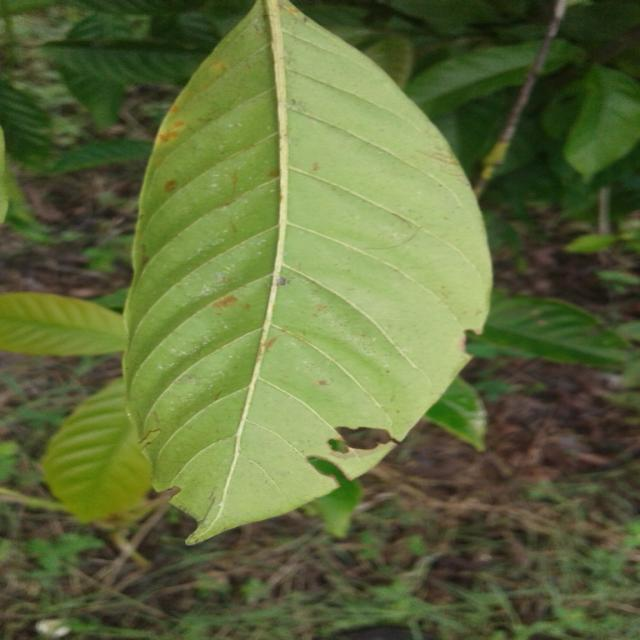Enfermedad-Roya: (122, 0, 492, 538)
